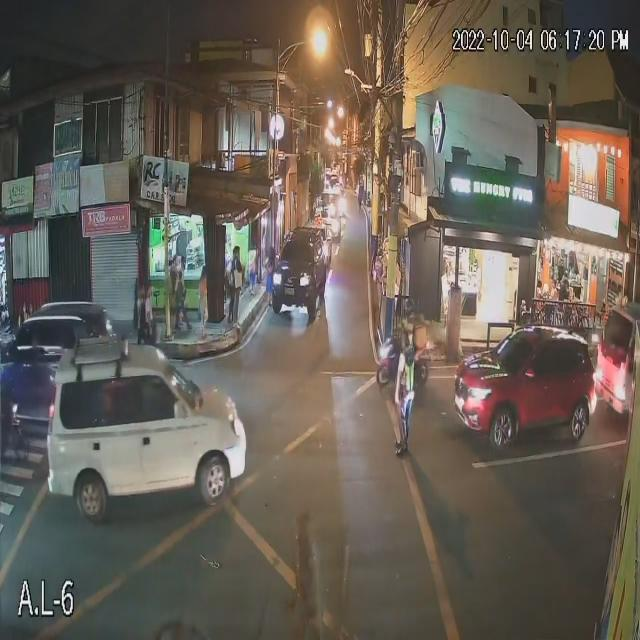motorcycle: (375, 342, 429, 381), (0, 395, 30, 463)
